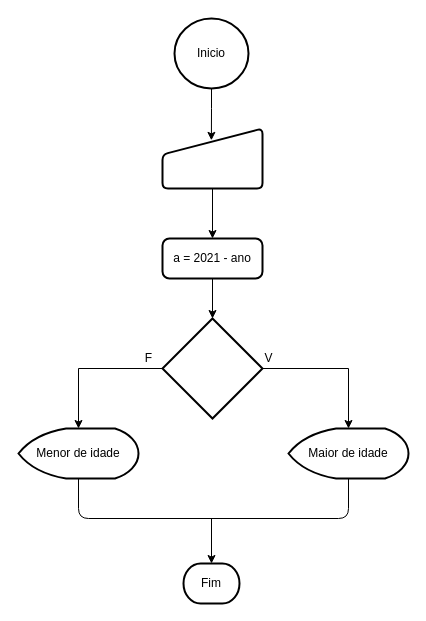
This 426x621 diagram has some shape labels left out. Each missing label, with the centre of its shape:
"a >= 18" belongs at (x=212, y=368).
"ano" belongs at (x=212, y=158).
